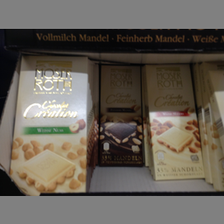chocolate: (11, 55, 90, 195), (145, 63, 205, 180), (96, 63, 145, 167)
